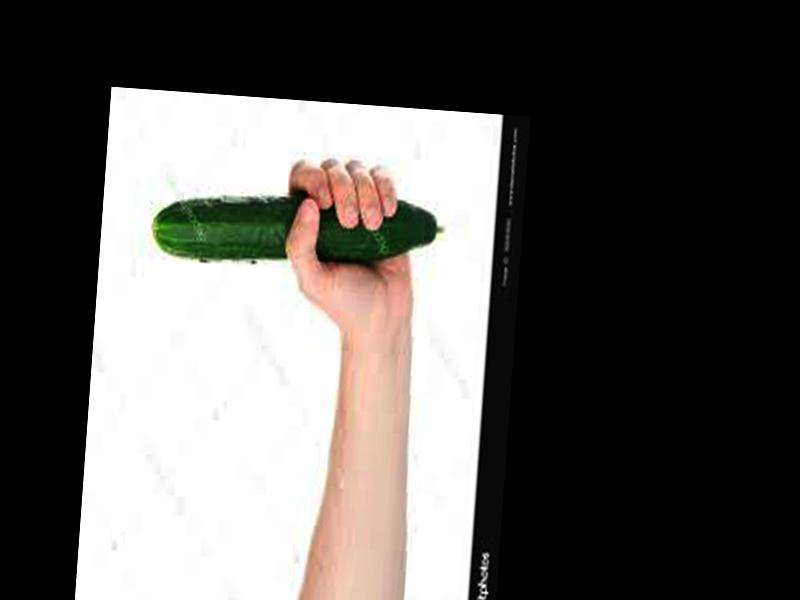Cucumber: (151, 182, 444, 276)
